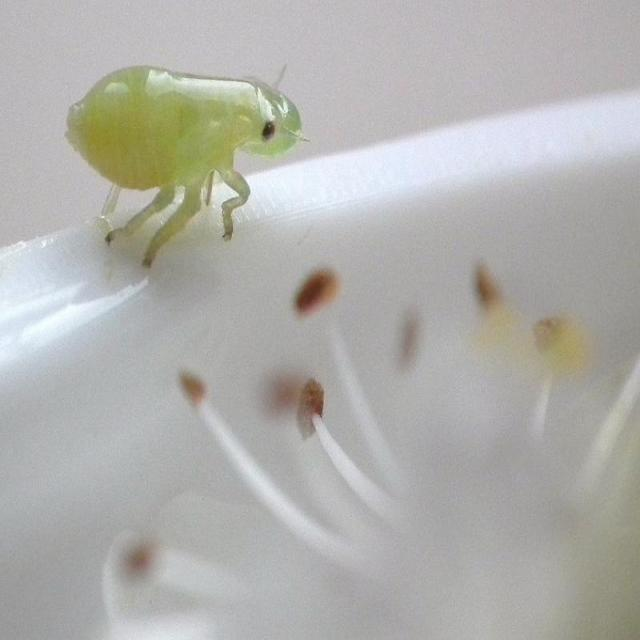aphid: (55, 45, 339, 258)
